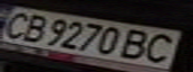0: (96, 24, 127, 56)
2: (60, 18, 84, 52)
7: (78, 20, 103, 54)
9: (39, 16, 69, 48)
B: (115, 27, 160, 61), (12, 11, 54, 43)
C: (136, 30, 187, 64), (0, 9, 36, 39)
